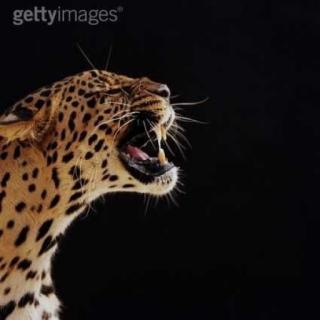Leopard: (15, 44, 239, 320)
